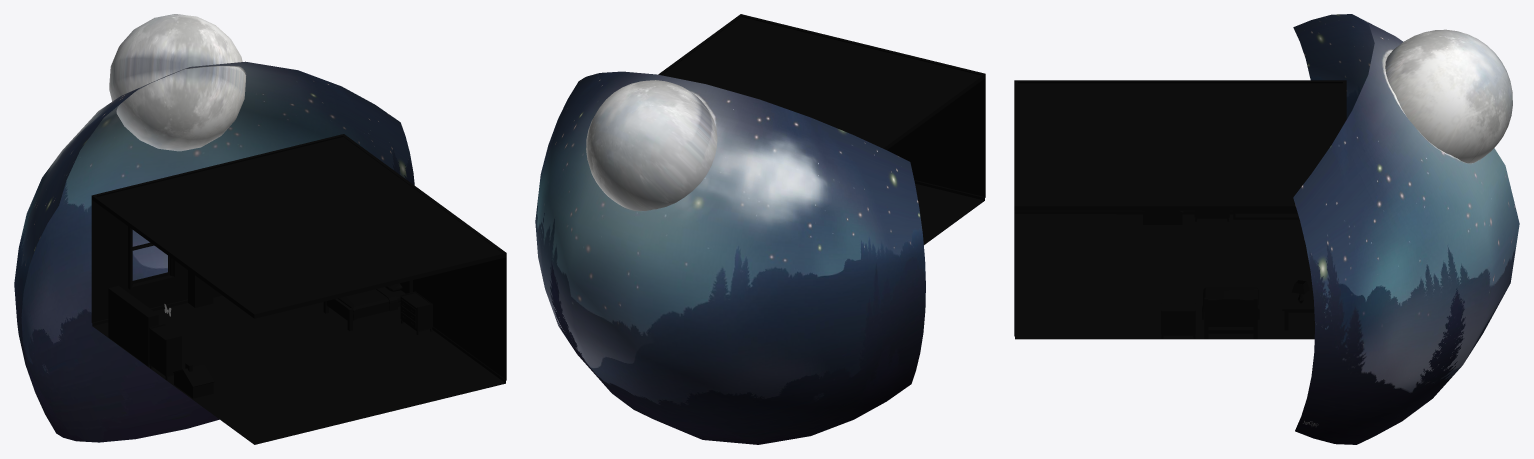
Rendered from kidsroom.dae.
3 renders of one model, left to right at view 1: azimuth 30°, elevation 25°; view 2: azimuth 150°, elevation 25°; view 3: azimuth 270°, elevation 25°, orthographic. The views are drawn at different scales.
Parts seen in each view (by area): view 1: roomGeo, sky, moon; view 2: sky, roomGeo, moon; view 3: roomGeo, sky, moon.
Boxes of the visible parts, x1,y1,x2,y2 form: roomGeo: [91, 134, 506, 444]; sky: [14, 61, 414, 442]; moon: [109, 14, 245, 151]; sky: [535, 71, 925, 444]; roomGeo: [658, 14, 985, 244]; moon: [586, 80, 717, 210]; roomGeo: [1014, 80, 1346, 339]; sky: [1293, 14, 1519, 444]; moon: [1385, 29, 1512, 163].
Bounding box in the file's own units: 10.92 × 10.06 × 11.84.
